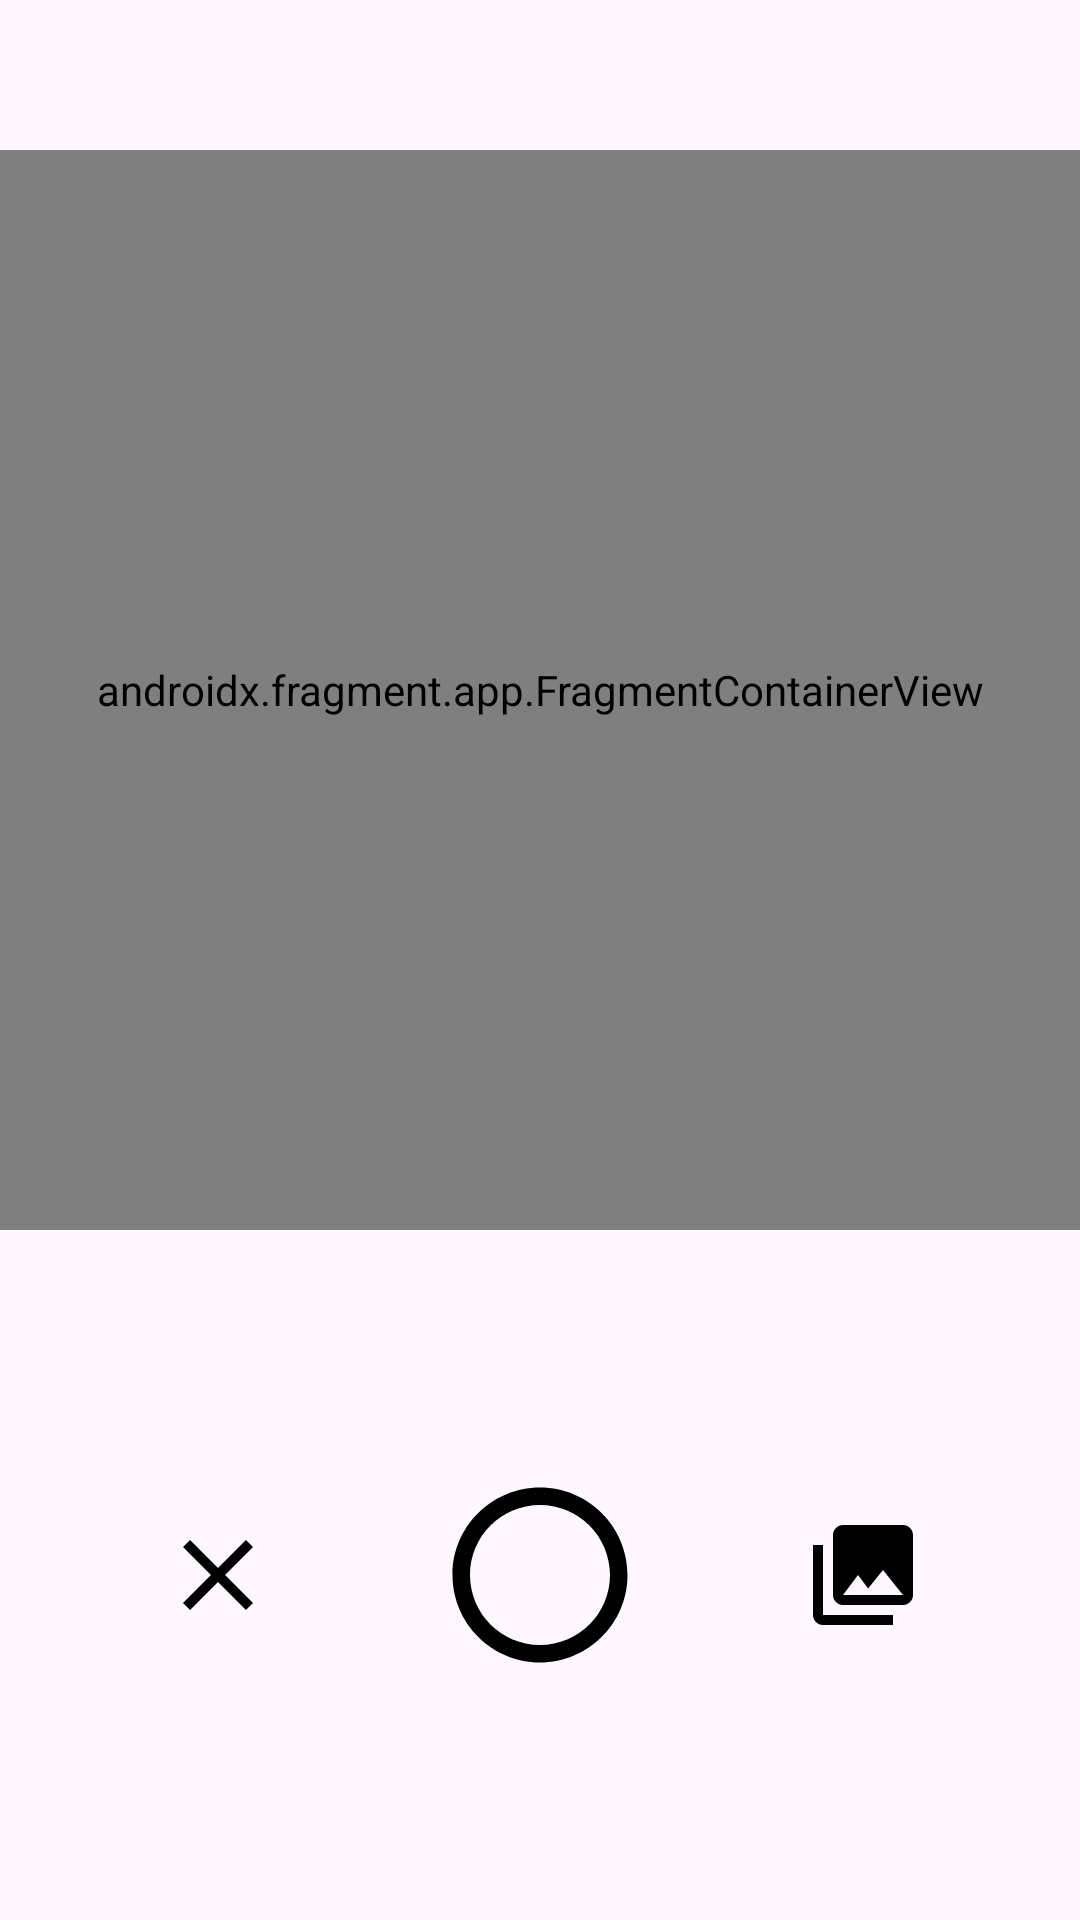

Named icons in this screenshot (1080 x 1920) and their centers, point (x, y):
close: point (218, 1575)
gallery: point (863, 1575)
